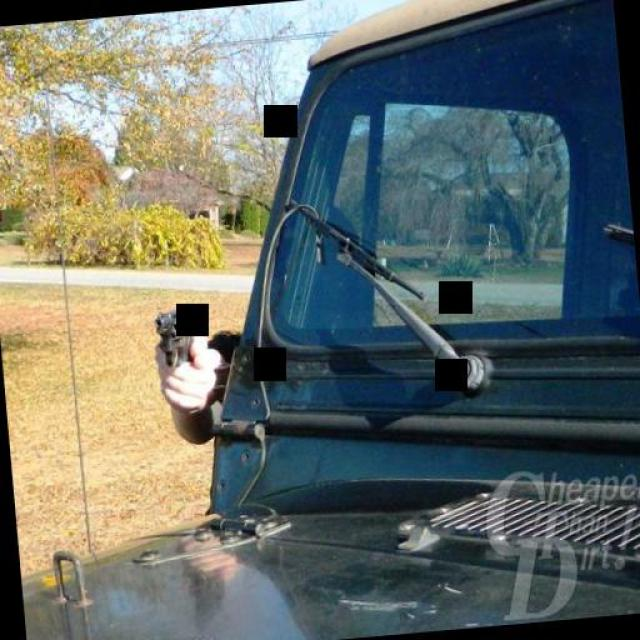gun: (150, 306, 205, 405)
